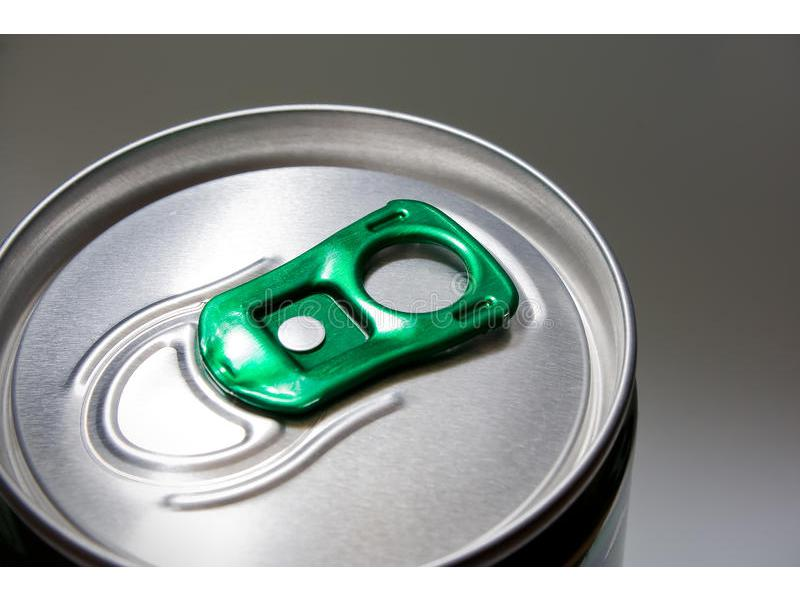can: (0, 100, 645, 565)
